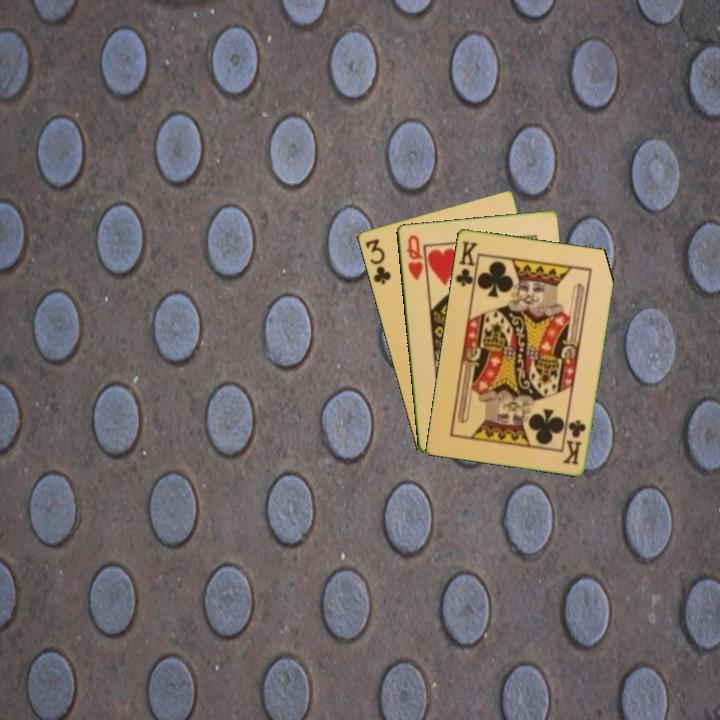3c: (361, 235, 393, 288)
Kc: (452, 237, 481, 292), (560, 416, 589, 467)
Qh: (402, 231, 425, 283)
